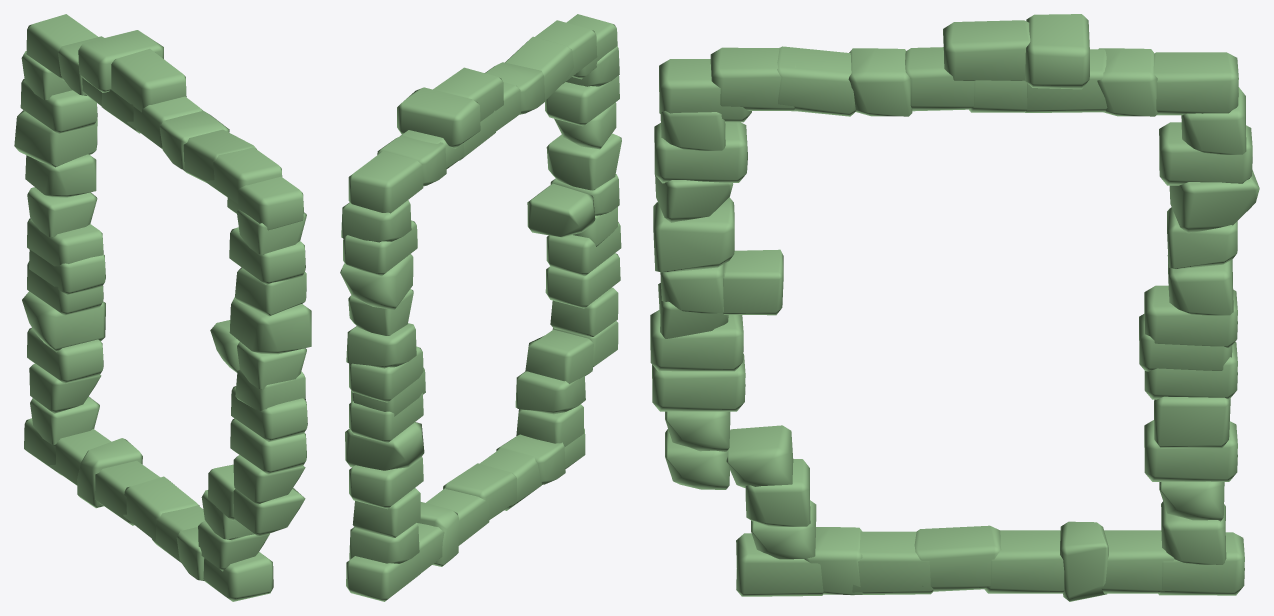
Rendered from Wall_Break_01_Lod0.fbx.
3 views of the same model, side by side, from view 1: azimuth 30°, elevation 25°; view 2: azimuth 150°, elevation 25°; view 3: azimuth 270°, elevation 25° (orthographic). The views are drawn at different scales.
Parts seen in each view (by area): view 1: Wall_Break_01_Lod0; view 2: Wall_Break_01_Lod0; view 3: Wall_Break_01_Lod0.
Part boxes in pixels (<box>): Wall_Break_01_Lod0: <box>14,14,311,601</box>; Wall_Break_01_Lod0: <box>340,14,621,601</box>; Wall_Break_01_Lod0: <box>650,14,1259,601</box>.
Size of the model in its own units: 52.29 by 346 by 341.
